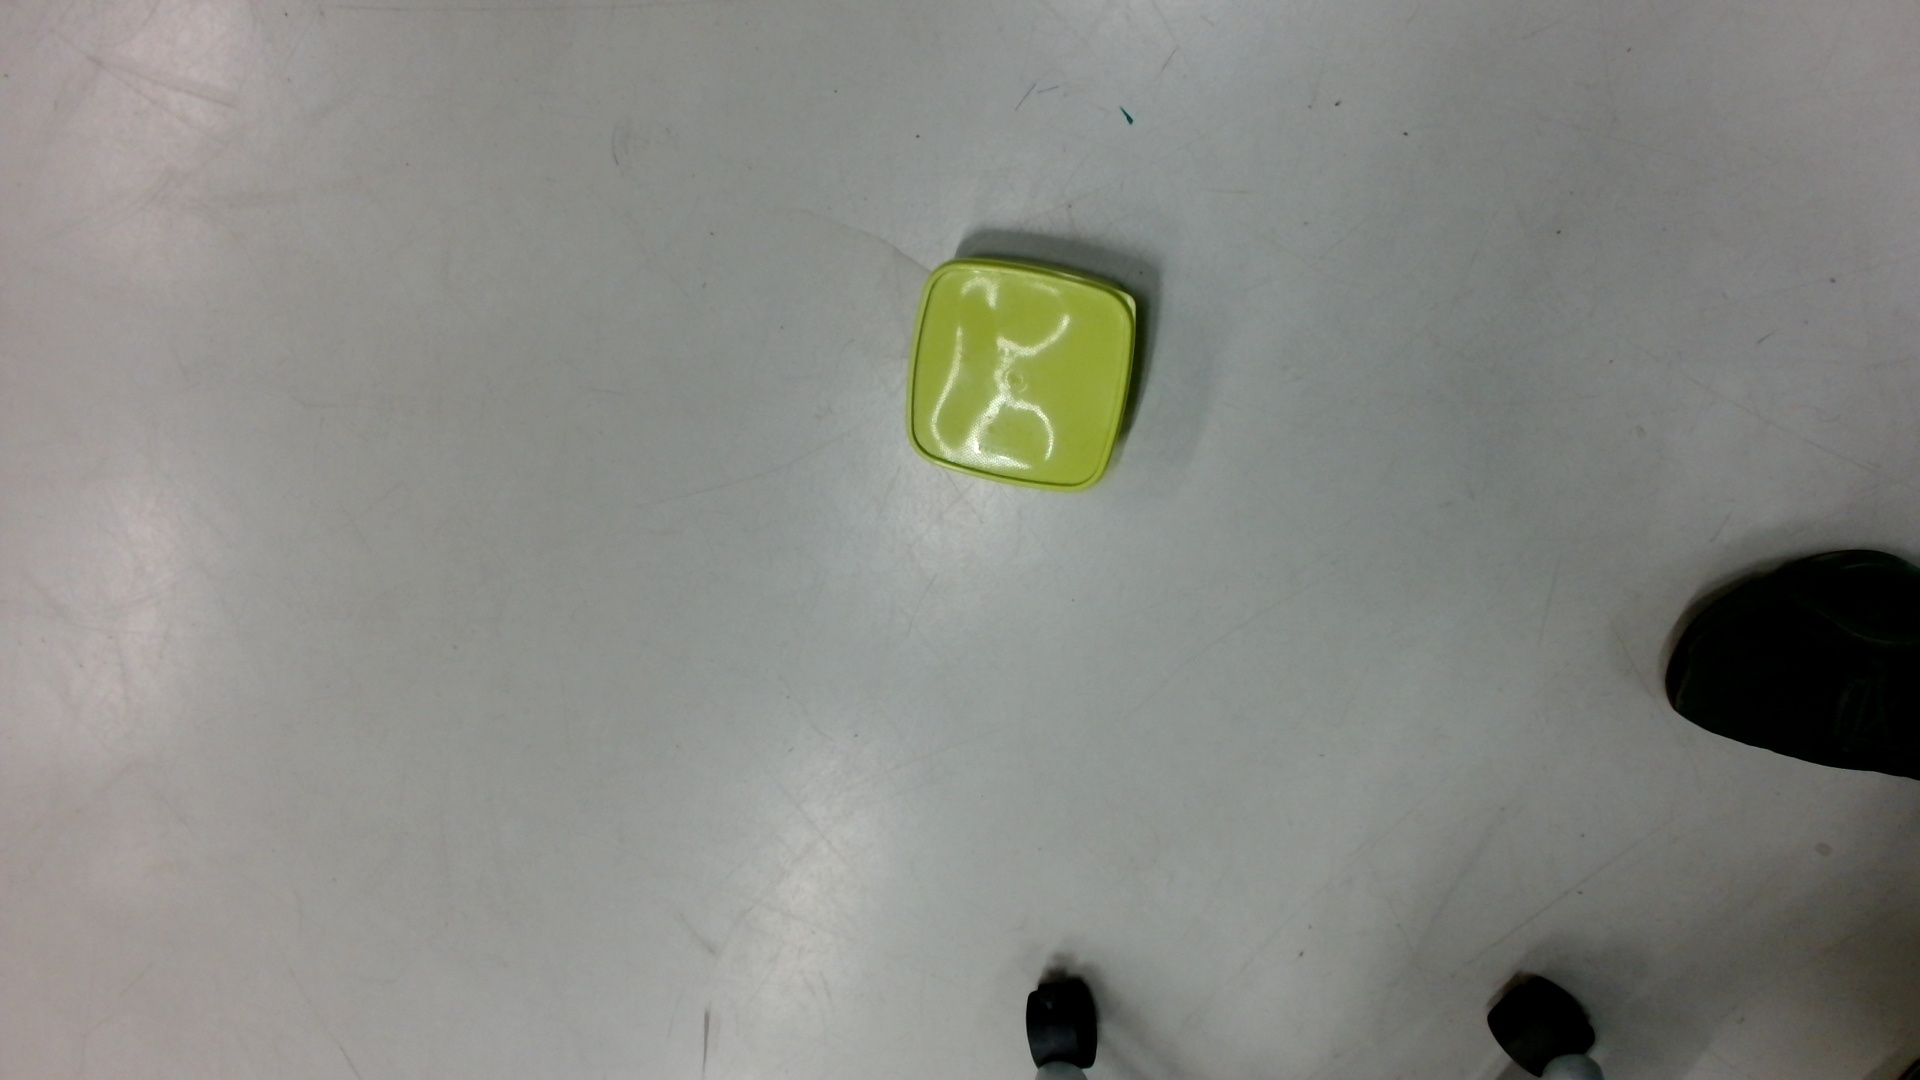Box: (898, 254, 1145, 497)
